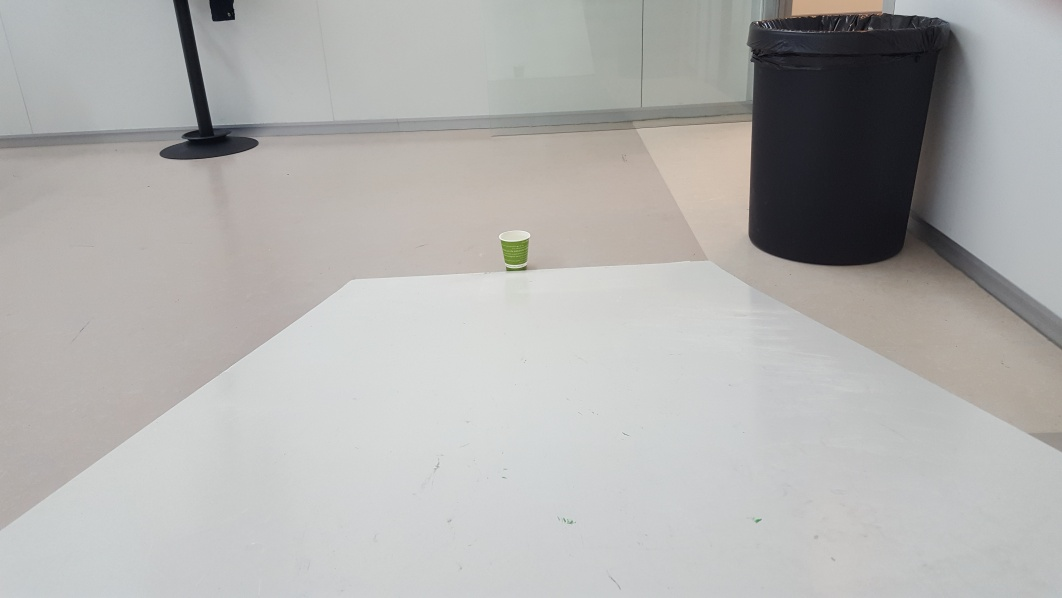cup: (496, 227, 535, 271)
